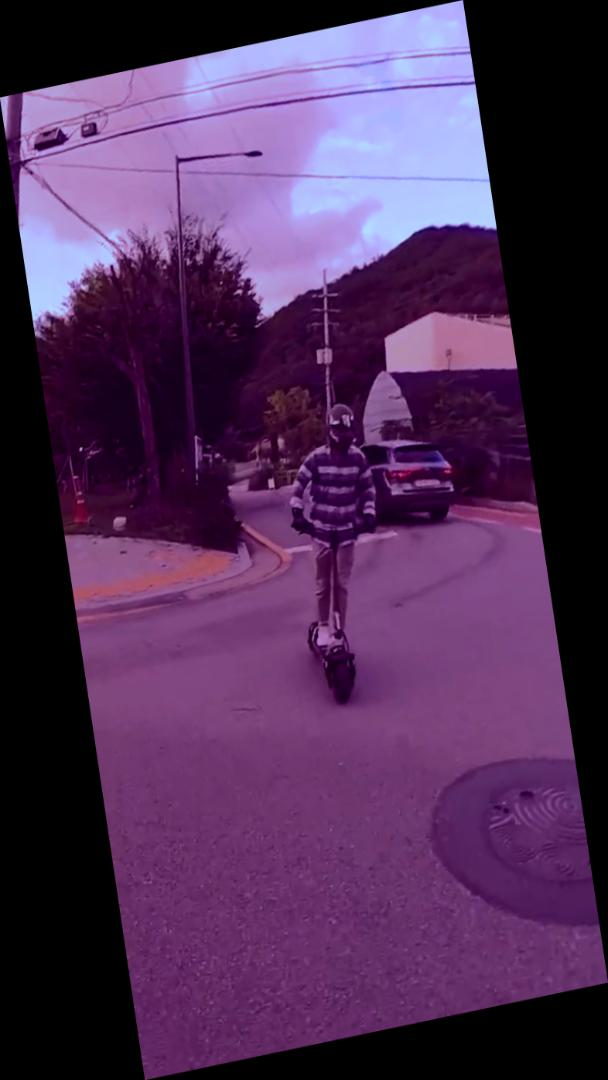helmet: (270, 394, 409, 711)
